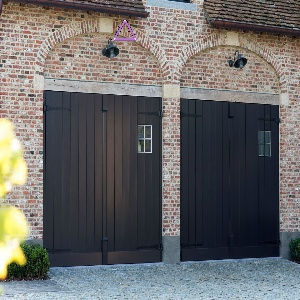triangle: (113, 17, 136, 42)
